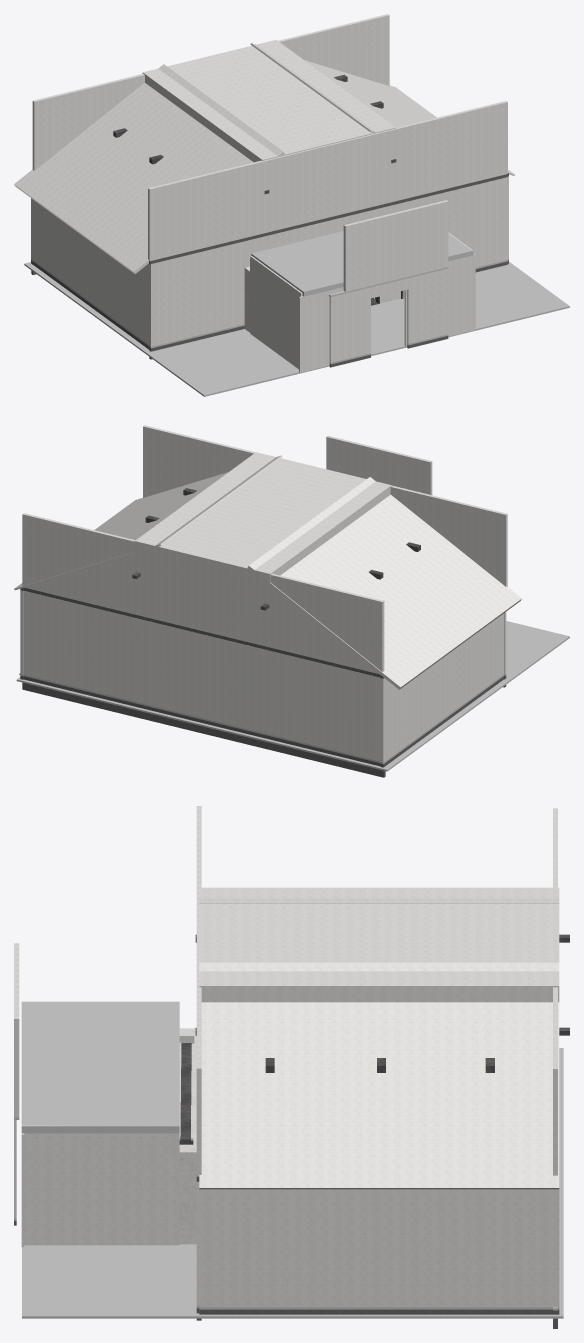
File: scp_room_914.dae
3 views of the same model, one above another, from view 1: azimuth 30°, elevation 25°; view 2: azimuth 150°, elevation 25°; view 3: azimuth 270°, elevation 25° (orthographic). The views are drawn at different scales.
Parts seen in each view (by area): view 1: SCP 914 Containment Chamber.004, SCP 914 Containment Chamber.009, SCP 914 Containment Chamber.005, SCP 914 Containment Chamber.003, SCP 914 Containment Chamber.006, SCP 914 Containment Chamber.021; view 2: SCP 914 Containment Chamber.004, SCP 914 Containment Chamber.003, SCP 914 Containment Chamber.009, SCP 914 Containment Chamber.006, SCP 914 Containment Chamber.002; view 3: SCP 914 Containment Chamber.004, SCP 914 Containment Chamber.005, SCP 914 Containment Chamber.009, SCP 914 Containment Chamber.021, SCP 914 Containment Chamber.003, SCP 914 Containment Chamber.002, SCP 914 Containment Chamber.006.
Part boxes in pixels (box(x1,y1,x2,y2)): SCP 914 Containment Chamber.004: box(14, 14, 514, 372); SCP 914 Containment Chamber.009: box(24, 262, 569, 396); SCP 914 Containment Chamber.005: box(251, 231, 473, 296); SCP 914 Containment Chamber.003: box(31, 173, 508, 367); SCP 914 Containment Chamber.006: box(31, 259, 508, 364); SCP 914 Containment Chamber.021: box(244, 266, 404, 332); SCP 914 Containment Chamber.004: box(14, 425, 521, 762); SCP 914 Containment Chamber.003: box(20, 587, 506, 777); SCP 914 Containment Chamber.009: box(16, 621, 569, 771); SCP 914 Containment Chamber.006: box(19, 673, 506, 764); SCP 914 Containment Chamber.002: box(132, 488, 420, 610); SCP 914 Containment Chamber.004: box(14, 806, 559, 1307); SCP 914 Containment Chamber.005: box(21, 1001, 179, 1133); SCP 914 Containment Chamber.009: box(22, 1048, 563, 1318); SCP 914 Containment Chamber.021: box(179, 1028, 196, 1244); SCP 914 Containment Chamber.003: box(14, 1176, 559, 1328); SCP 914 Containment Chamber.002: box(179, 934, 569, 1144); SCP 914 Containment Chamber.006: box(14, 1117, 559, 1310).
Size of the model in its own units: 51.12 by 42.93 by 22.68.
